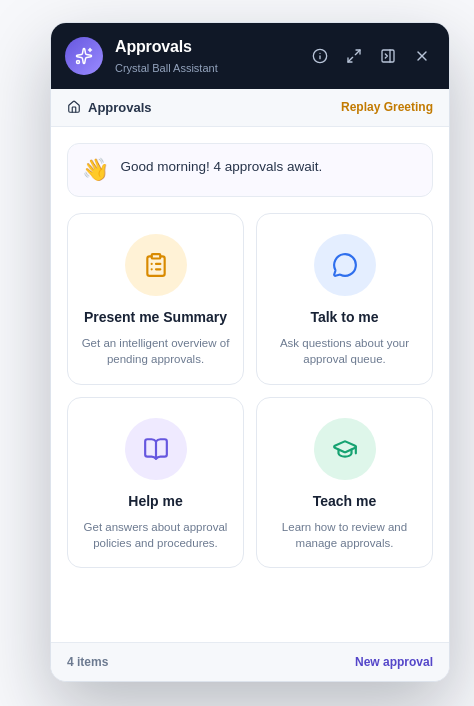
Test: AssistantPanel › Help me › answers a question from the policy, with readable citations
Click the button "Help me Get answers about approval policies and procedures.".
click(156, 482)  # box [67, 397, 244, 568]
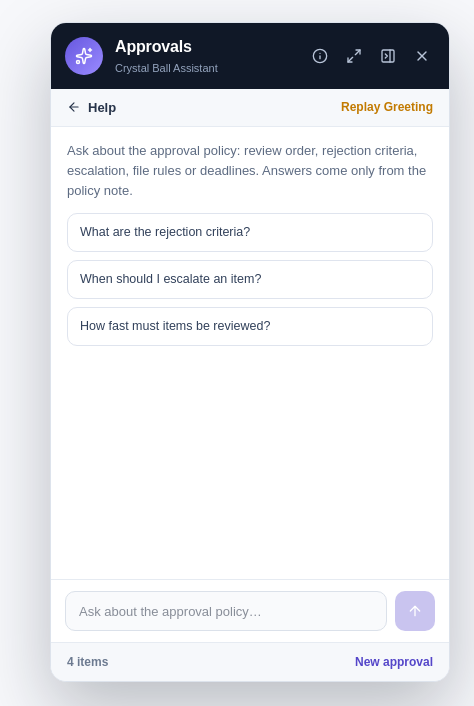
Type "What are the rejection criteria?" into the field named "your question".
click(226, 611); type("What are the rejection criteria?")  # box [65, 591, 387, 631]
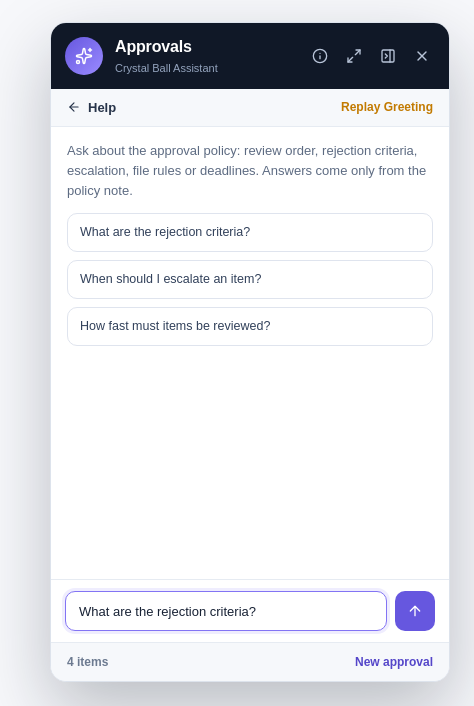
Click the button named "ask".
click(415, 611)  # box [395, 591, 435, 631]
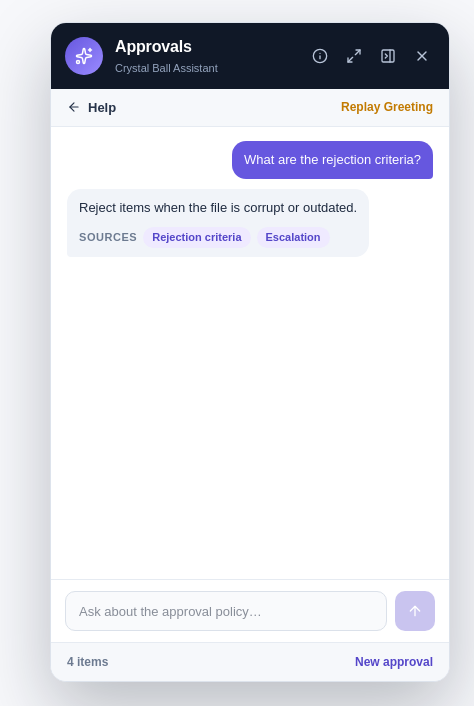
Result: the text "Rejection criteria" is shown at [143, 227, 251, 248]
Result: the text "Escalation" is shown at [256, 227, 330, 248]
Result: the text "Reject items when the file is corrupt or outdated." is shown at [79, 198, 357, 218]
